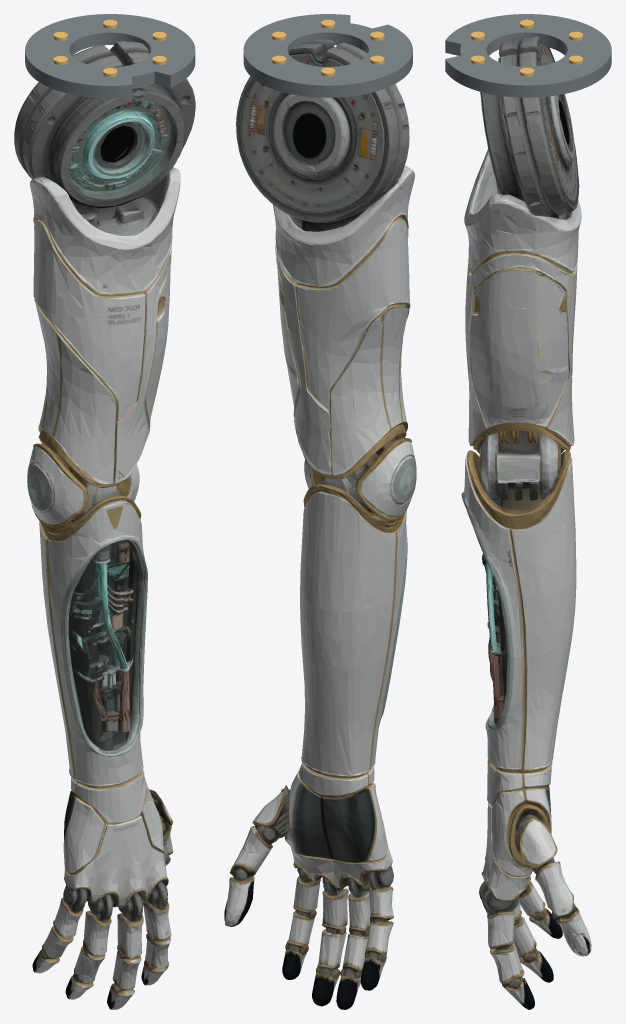
Rendered from implant_precision_arm.glb.
The picture shows the model from 3 angles, left to right: view 1: azimuth 30°, elevation 25°; view 2: azimuth 150°, elevation 25°; view 3: azimuth 270°, elevation 25°; orthographic projection.
Visible parts, largest first — view 1: world, keyed_flange; view 2: world, keyed_flange; view 3: world, keyed_flange.
Boxes of the visible parts, x1=… form: world: x1=14, y1=41, x2=195, y2=1009; keyed_flange: x1=25, y1=14, x2=195, y2=98; world: x1=224, y1=39, x2=416, y2=1009; keyed_flange: x1=243, y1=14, x2=412, y2=97; world: x1=461, y1=36, x2=591, y2=1009; keyed_flange: x1=445, y1=14, x2=611, y2=97.
Bounding box in the file's own units: 0.1318 × 0.7499 × 0.1179.
Materials: 3 (1 with a texture image).
